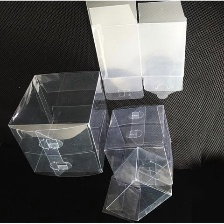plastic_box: (1, 65, 115, 183), (79, 0, 190, 106), (99, 100, 178, 191), (97, 143, 176, 224)
